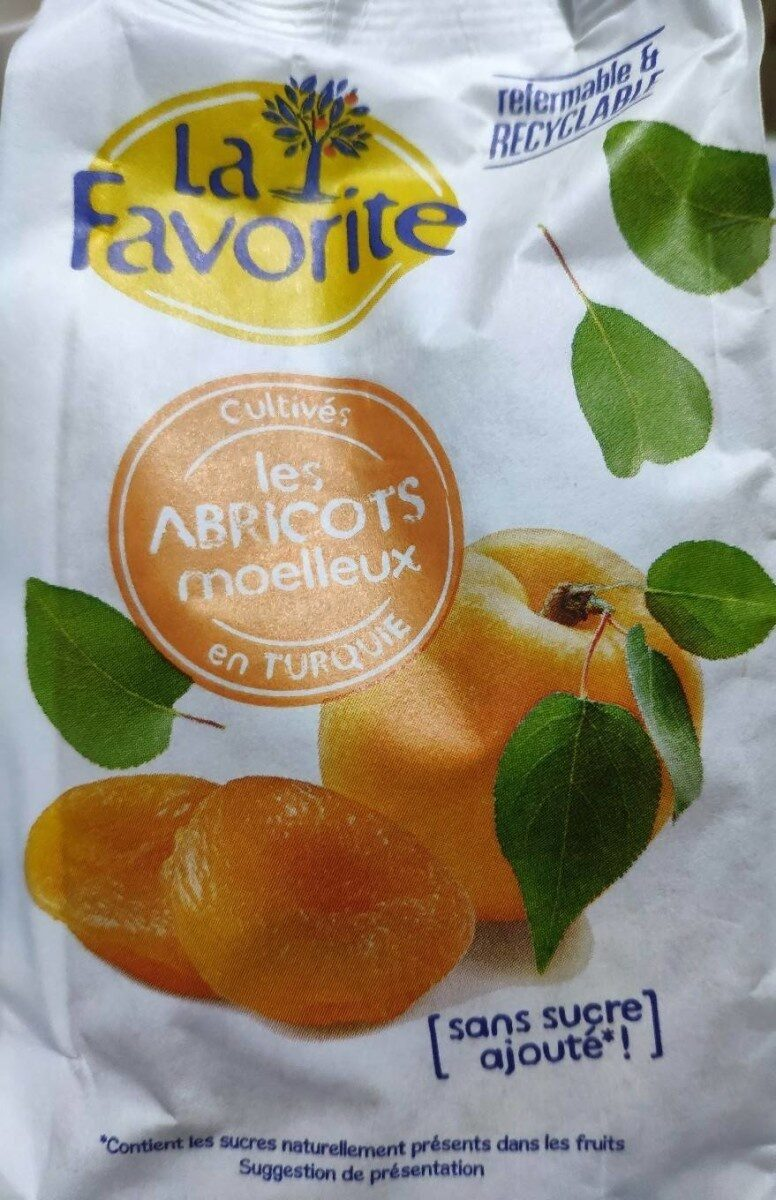Abricots fondants: (39, 60, 737, 1140)
